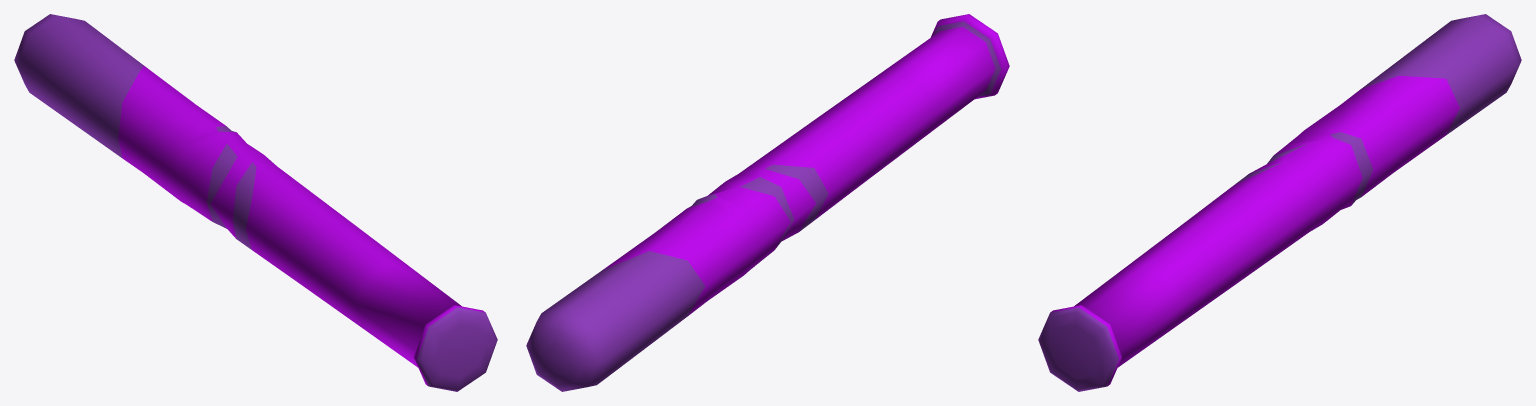
Rendered from cac4.fbx.
3 views of the same model, side by side, from view 1: azimuth 30°, elevation 25°; view 2: azimuth 150°, elevation 25°; view 3: azimuth 330°, elevation 25° (orthographic).
Parts seen in each view (by area): view 1: Cylinder; view 2: Cylinder; view 3: Cylinder.
Boxes of the visible parts, x1,y1,x2,y2 form: Cylinder: (14, 14, 497, 391); Cylinder: (526, 14, 1009, 391); Cylinder: (1038, 14, 1521, 391).
Size of the model in its own units: 0.1755 by 1.57 by 0.1755.
